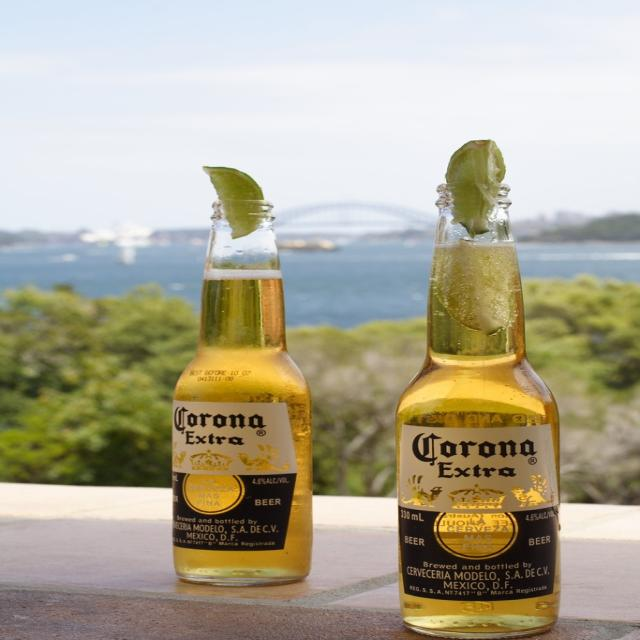corona: (399, 425, 560, 602), (173, 401, 299, 552)
